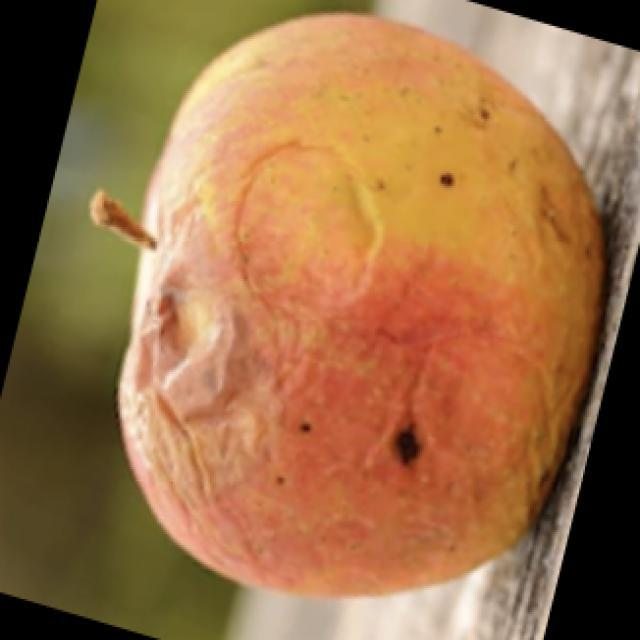Rotten: (120, 15, 612, 613)
